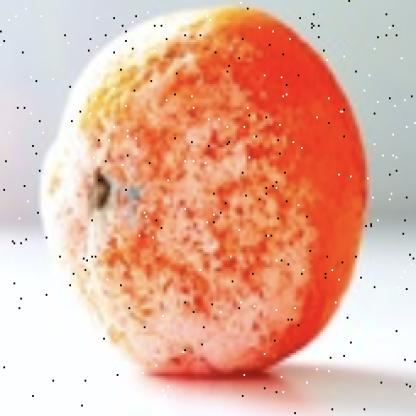rotten: (39, 9, 368, 381)
